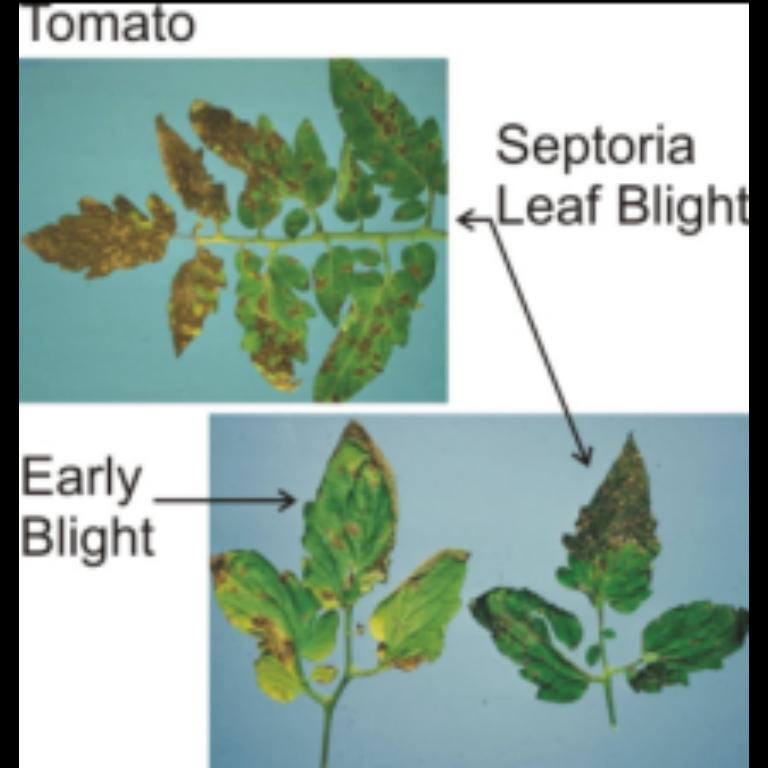blight: (214, 552, 302, 682), (28, 208, 164, 284), (580, 460, 648, 570)
